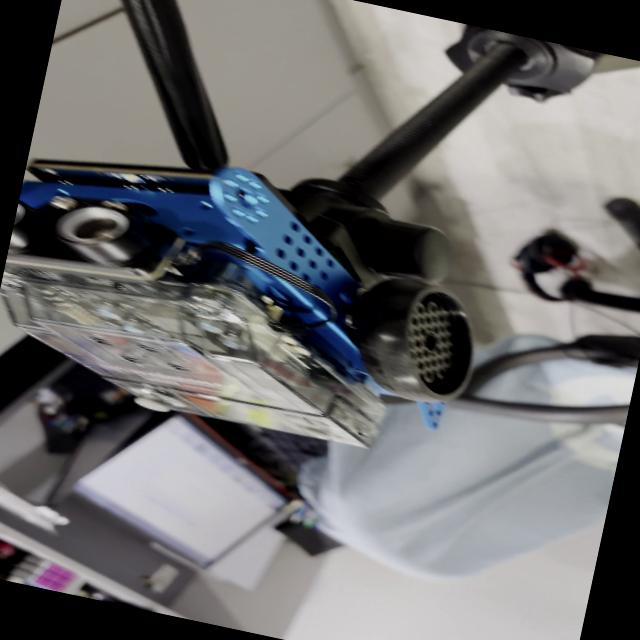mbot-detection: (0, 121, 513, 486)
